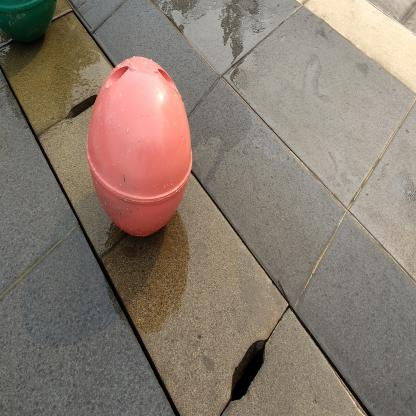red_buoy: (80, 52, 198, 249)
